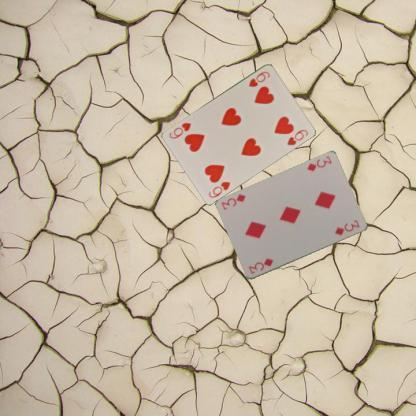3d: (304, 153, 333, 173), (246, 256, 275, 275)
6h: (206, 178, 232, 198), (246, 69, 271, 88)
